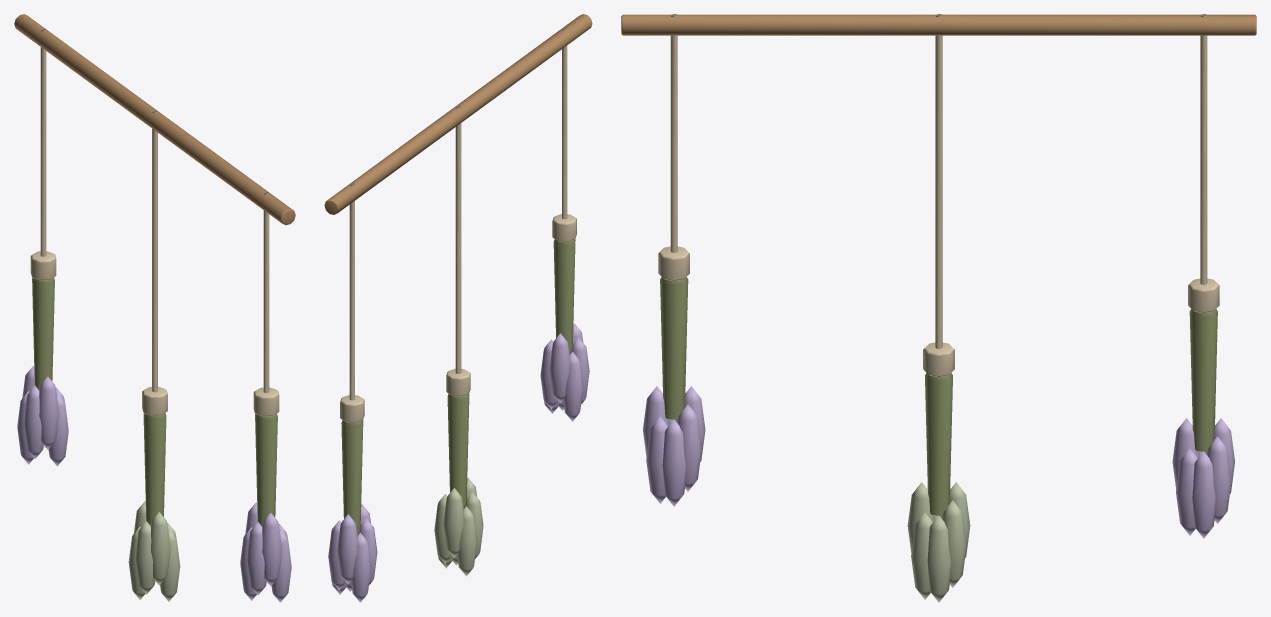
Rendered from Dried_Herb_Bundles.fbx.
3 renders of one model, left to right at view 1: azimuth 30°, elevation 25°; view 2: azimuth 150°, elevation 25°; view 3: azimuth 270°, elevation 25°, orthographic. The views are drawn at different scales.
Parts seen in each view (by area): view 1: Dried_Herb_Bundles_Mesh; view 2: Dried_Herb_Bundles_Mesh; view 3: Dried_Herb_Bundles_Mesh.
Boxes of the visible parts, box(x1,y1,x2,y2) form: Dried_Herb_Bundles_Mesh: box(14, 14, 295, 602); Dried_Herb_Bundles_Mesh: box(324, 14, 592, 602); Dried_Herb_Bundles_Mesh: box(621, 14, 1256, 602).
Size of the model in its own units: 0.07 by 0.725 by 0.72.
